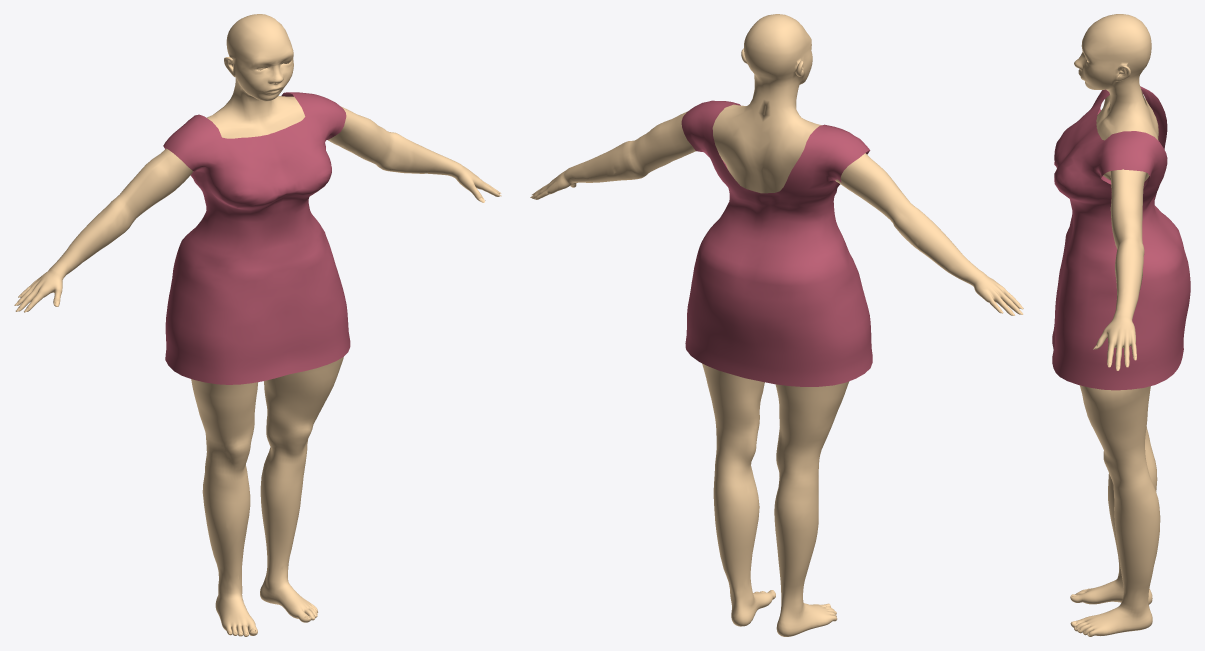
Rendered from dress7.glb.
3 renders of one model, left to right at view 1: azimuth 30°, elevation 25°; view 2: azimuth 150°, elevation 25°; view 3: azimuth 270°, elevation 25°, orthographic.
Parts seen in each view (by area): view 1: Jennifer.F_Dress_01, Body; view 2: Body, Jennifer.F_Dress_01; view 3: Jennifer.F_Dress_01, Body.
Part boxes in pixels (x1,y1,x2,y2): Jennifer.F_Dress_01: (163,92,350,384); Body: (17,14,500,636); Body: (532,14,1020,636); Jennifer.F_Dress_01: (681,100,872,386); Jennifer.F_Dress_01: (1052,86,1190,390); Body: (1070,14,1160,636).
Bounding box in the file's own units: 1.58 × 1.85 × 0.3879.
